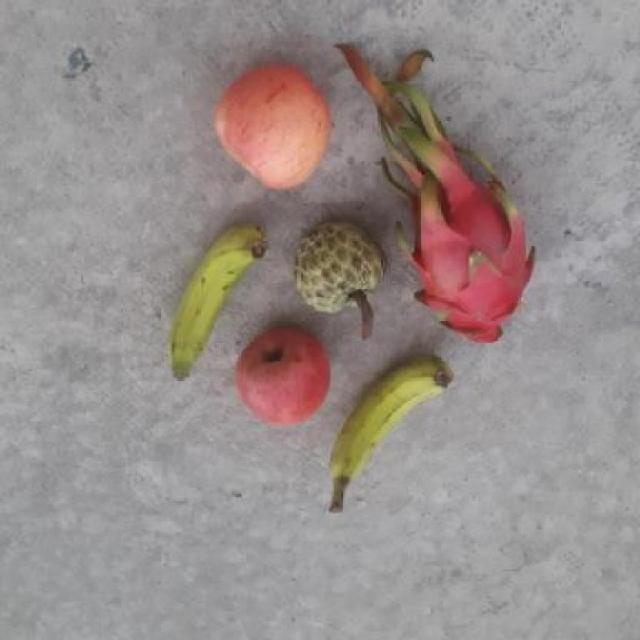apple: (206, 68, 332, 188), (230, 318, 332, 427)
banana: (318, 349, 469, 500), (161, 209, 268, 389)
dragon fruit: (402, 179, 532, 344)
sugar apple: (289, 216, 386, 312)
